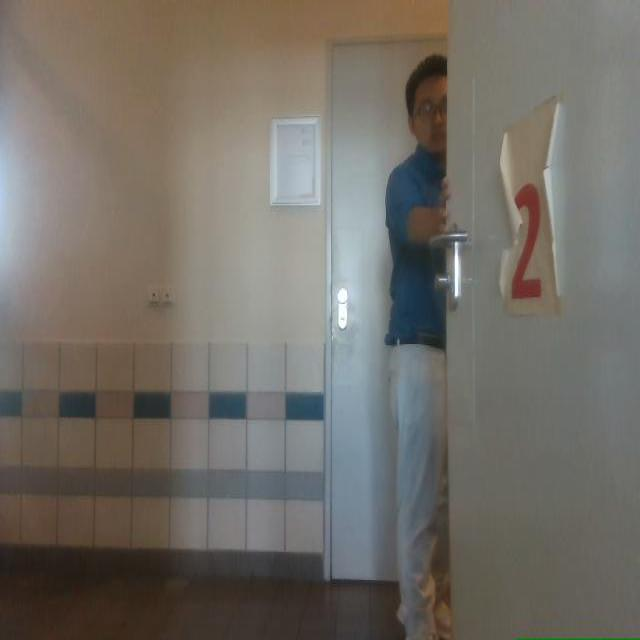humans: (385, 56, 450, 639)
objects: (443, 0, 639, 639)
